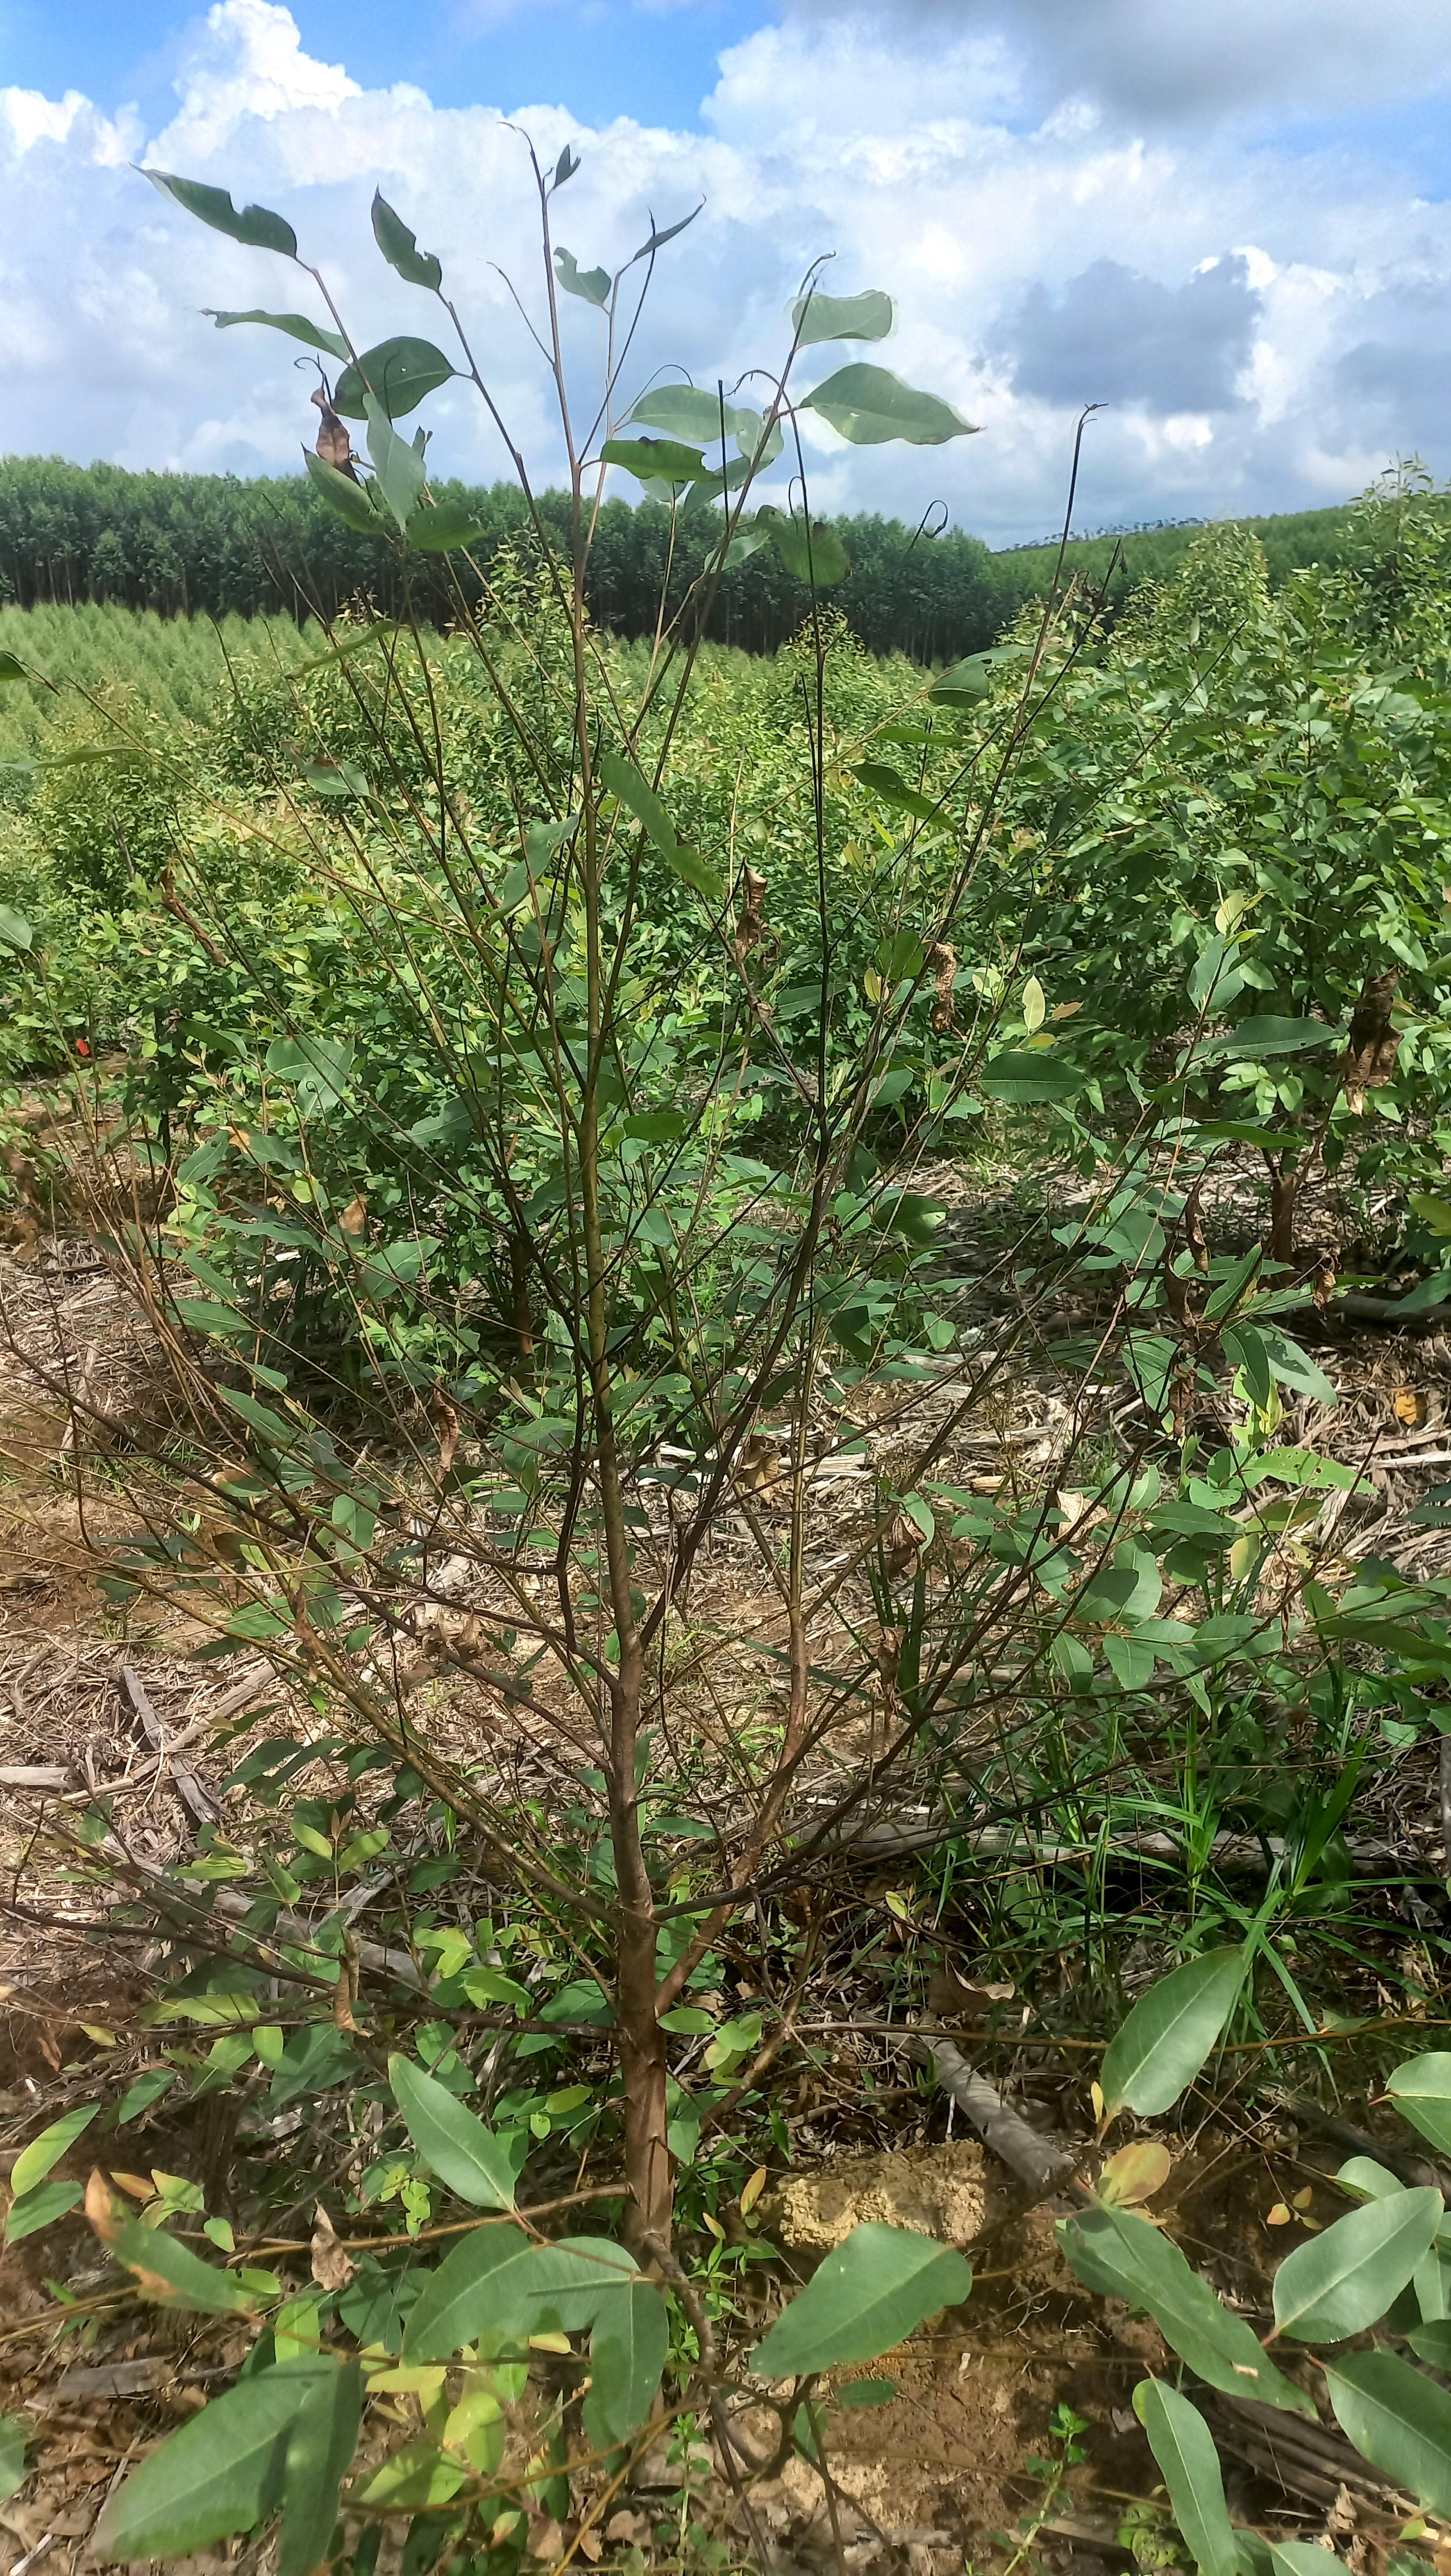Helopeltis-Withered Sprout: (156, 849, 248, 975), (1332, 957, 1403, 1113), (304, 372, 370, 506), (319, 1916, 379, 2043), (283, 2206, 368, 2296), (724, 867, 770, 980), (1086, 534, 1132, 644), (918, 938, 970, 1033), (425, 1387, 465, 1477), (734, 1431, 784, 1499), (1308, 1233, 1343, 1323), (1159, 1368, 1196, 1447), (1157, 1277, 1200, 1345), (1187, 1175, 1216, 1274), (874, 1622, 910, 1690), (342, 1198, 386, 1251), (887, 1511, 927, 1562), (918, 494, 950, 548)
